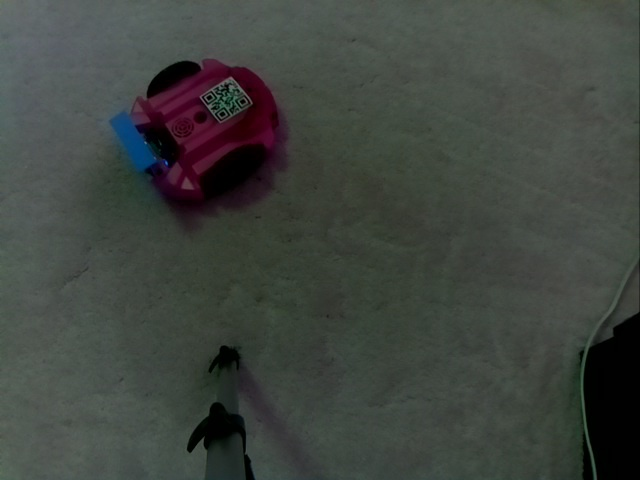chassis: (107, 53, 281, 204)
qr: (200, 76, 254, 121)
